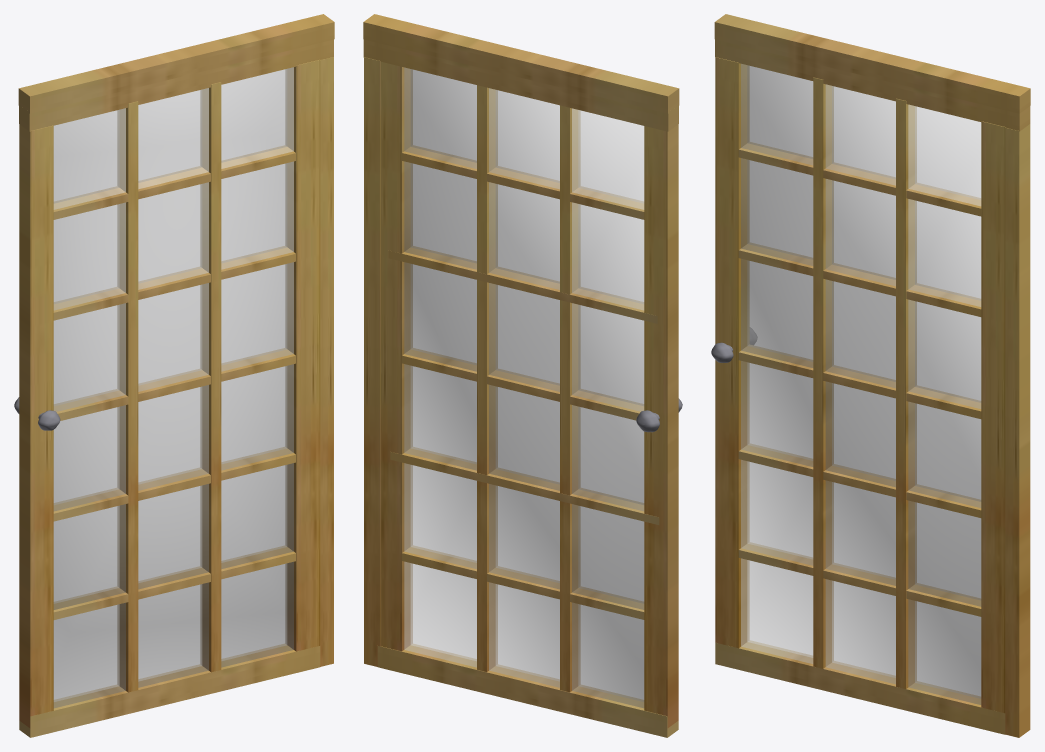
File: sweethome3d-contributions-patio-door-271.glb
3 views of the same model, side by side, from view 1: azimuth 30°, elevation 25°; view 2: azimuth 150°, elevation 25°; view 3: azimuth 330°, elevation 25° (orthographic).
Parts seen in each view (by area): view 1: sweethome3d_window_pane, right, left, Cube_4_1, Cube_4, Cube_12, bottom, Cube_11, top, Cube_5_3, Cube_5_1, Cube_5_4 (+2 smaller); view 2: sweethome3d_window_pane, right, left, Cube_4, Cube_4_1, Cube_11, Cube_12, bottom, top, Cube_5_3, Cube_5_1, Cube_5 (+2 smaller); view 3: sweethome3d_window_pane, right, Cube_11, left, Cube_4_1, Cube_4, Cube_12, bottom, top, Cube_5_3, Cube_5_1, Cube_5_2 (+2 smaller).
Part boxes in pixels (x1,y1,x2,y2): sweethome3d_window_pane: [53, 67, 293, 708]; right: [19, 124, 53, 728]; left: [285, 59, 320, 651]; Cube_4_1: [117, 101, 138, 692]; Cube_4: [200, 82, 221, 672]; Cube_12: [18, 14, 334, 113]; bottom: [19, 644, 320, 737]; Cube_11: [320, 57, 333, 666]; top: [19, 39, 333, 131]; Cube_5_3: [53, 246, 295, 320]; Cube_5_1: [53, 447, 295, 521]; Cube_5_4: [53, 145, 295, 219]; sweethome3d_window_pane: [404, 67, 644, 708]; right: [644, 124, 678, 727]; left: [380, 62, 412, 651]; Cube_4: [477, 85, 497, 671]; Cube_4_1: [560, 105, 580, 692]; Cube_11: [364, 57, 380, 666]; Cube_12: [363, 14, 679, 113]; bottom: [377, 644, 678, 737]; top: [363, 39, 678, 131]; Cube_5_3: [388, 246, 657, 323]; Cube_5_1: [390, 447, 659, 524]; Cube_5: [402, 545, 644, 619]; sweethome3d_window_pane: [741, 64, 981, 704]; right: [715, 57, 749, 648]; Cube_11: [1005, 124, 1030, 737]; left: [981, 121, 1005, 713]; Cube_4_1: [813, 77, 833, 668]; Cube_4: [896, 98, 916, 688]; Cube_12: [714, 14, 1030, 113]; bottom: [715, 640, 1005, 734]; top: [715, 39, 1030, 131]; Cube_5_3: [738, 243, 981, 316]; Cube_5_1: [738, 444, 981, 517]; Cube_5_2: [738, 345, 981, 418].
Size of the model in its own units: 7.39 by 14.87 by 1.37.
Materials: 3 (1 with a texture image).
